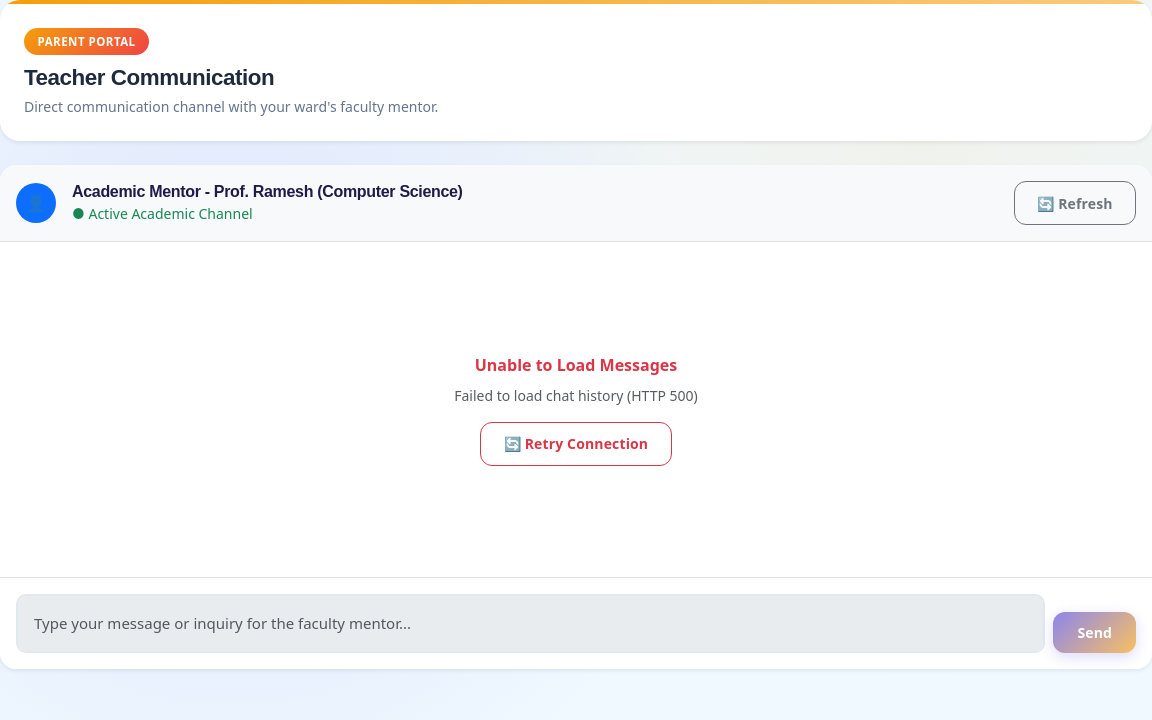
Test case: TeacherCommunication Component Tests › displays error state with retry on failure
Check: the element with test id "chat-error" is shown, box [454,354,698,466]
Check: the text "Unable to Load Messages" is shown, box [475,353,677,377]
Click the button "🔄 Retry Connection": [576, 444] box [480,422,672,466]
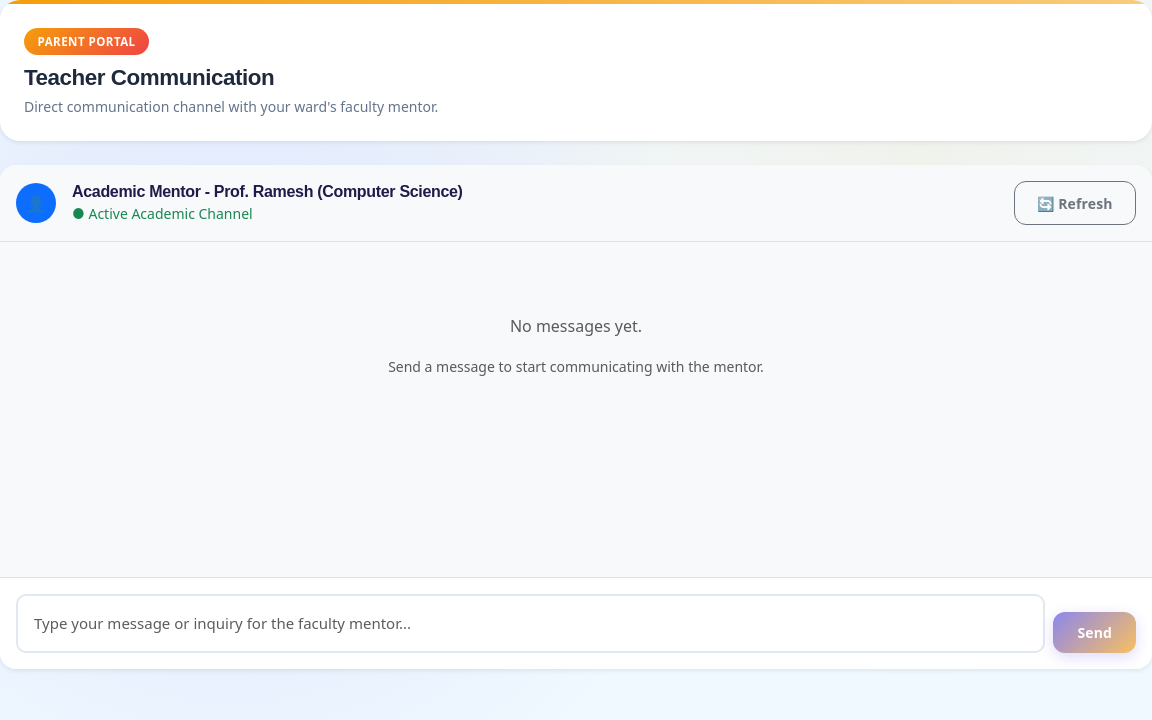
Check: the text "No messages yet." is shown, box [510,315,642,337]
